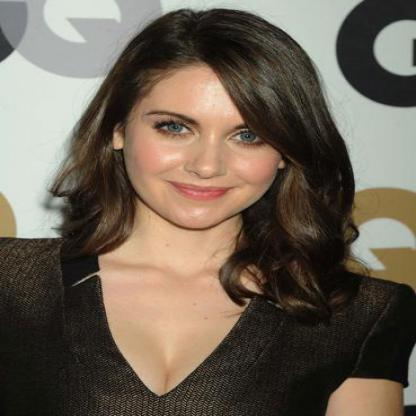long-hair: (39, 234, 363, 284)
